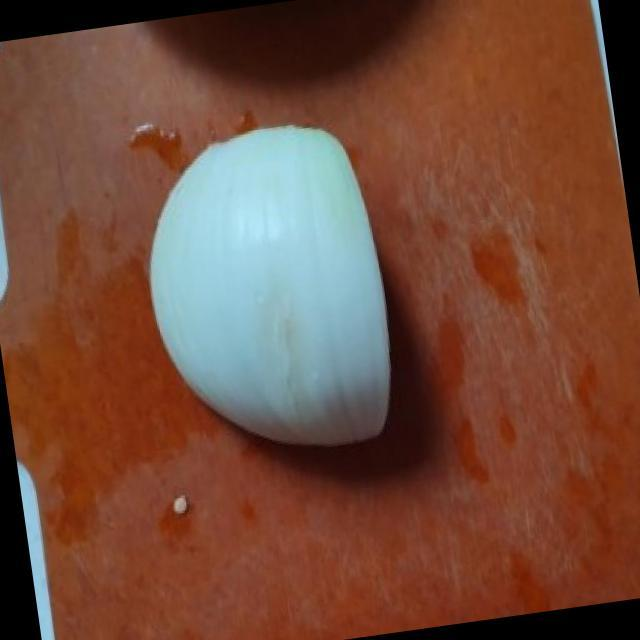Onion: (148, 125, 390, 446)
